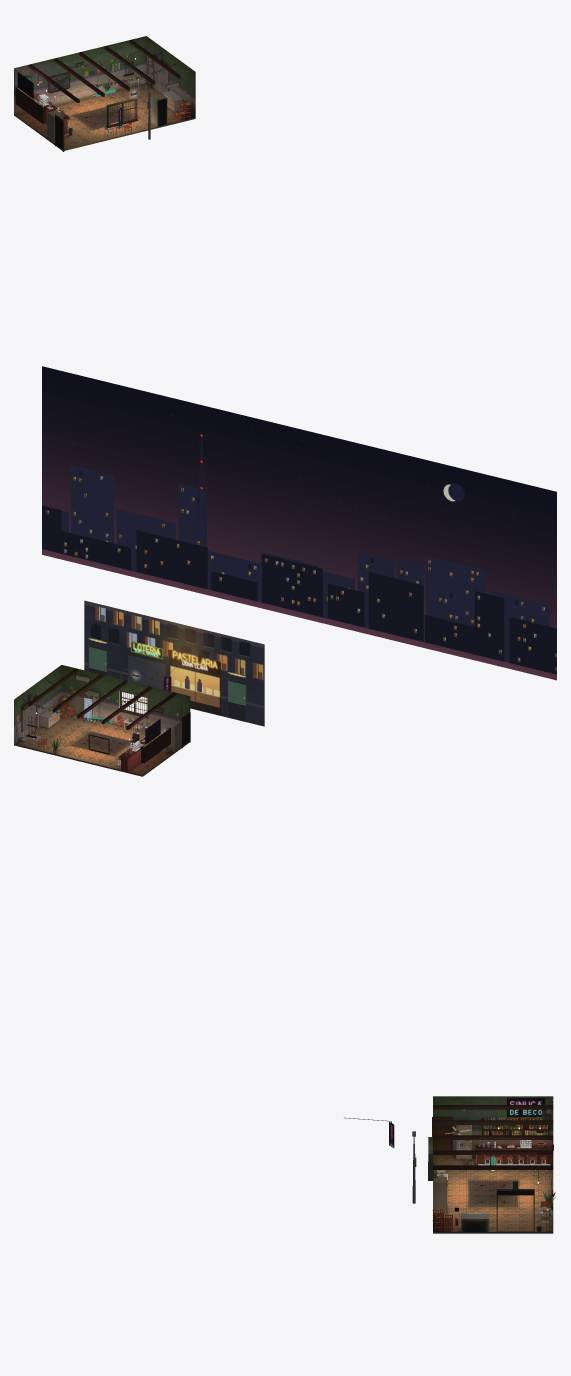
The model's file is boteco-alto.glb.
3 views of the same model, one above another, from view 1: azimuth 30°, elevation 25°; view 2: azimuth 150°, elevation 25°; view 3: azimuth 270°, elevation 25° (orthographic). The views are drawn at different scales.
Parts seen in each view (by area): view 1: boteco; view 2: janela-rua, boteco; view 3: boteco.
Boxes of the visible parts, box(x1,y1,x2,y2) form: boteco: box(14, 36, 195, 151); janela-rua: box(42, 366, 556, 726); boteco: box(14, 665, 190, 776); boteco: box(428, 1096, 556, 1233).
Size of the model in its own units: 40 by 14 by 28.9.
47 materials, 16 textured.
